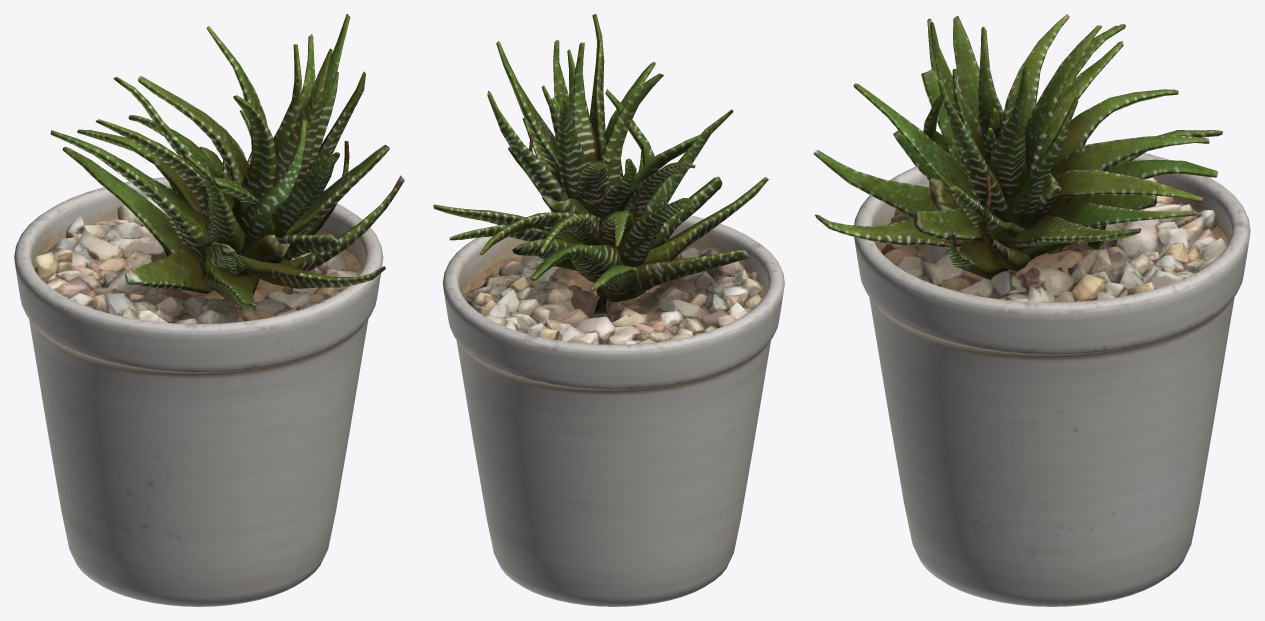
Rendered from potted_plant.glb.
The picture shows the model from 3 angles, left to right: view 1: azimuth 30°, elevation 25°; view 2: azimuth 150°, elevation 25°; view 3: azimuth 270°, elevation 25°; orthographic projection. The views are drawn at different scales.
Visible parts, largest first — view 1: potted_plant_04_pot, potted_plant_04_plant, potted_plant_04_ground, potted_plant_04_dirt; view 2: potted_plant_04_pot, potted_plant_04_plant, potted_plant_04_ground, potted_plant_04_dirt; view 3: potted_plant_04_pot, potted_plant_04_plant, potted_plant_04_ground, potted_plant_04_dirt.
Part boxes in pixels (<box>): potted_plant_04_pot: <box>14,177,383,606</box>; potted_plant_04_plant: <box>50,14,404,311</box>; potted_plant_04_ground: <box>34,196,357,323</box>; potted_plant_04_dirt: <box>34,238,362,307</box>; potted_plant_04_pot: <box>442,215,784,606</box>; potted_plant_04_plant: <box>433,14,768,314</box>; potted_plant_04_ground: <box>463,247,765,344</box>; potted_plant_04_dirt: <box>462,247,765,306</box>; potted_plant_04_pot: <box>854,144,1250,606</box>; potted_plant_04_plant: <box>813,14,1222,279</box>; potted_plant_04_ground: <box>881,177,1227,302</box>; potted_plant_04_dirt: <box>875,200,1228,297</box>.
Bounding box in the file's own units: 0.1679 × 0.2675 × 0.1848.
1 material, 1 textured.
